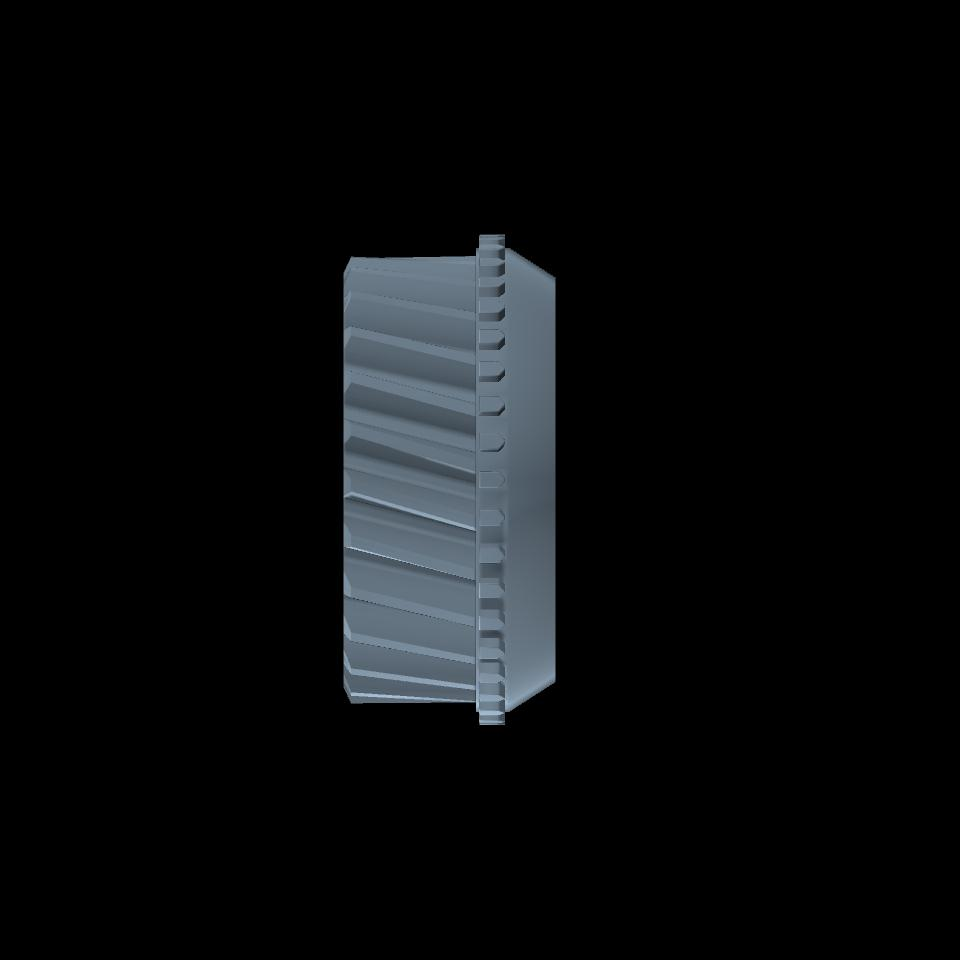Helical: (353, 257, 475, 702)
Straight: (480, 235, 496, 723)
